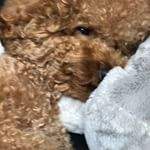puppy: (1, 1, 126, 97)
